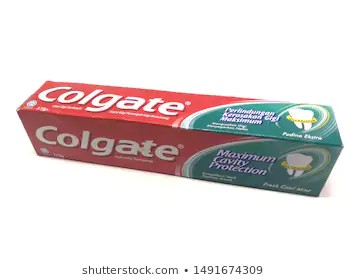colgate-small: (14, 84, 345, 200)
